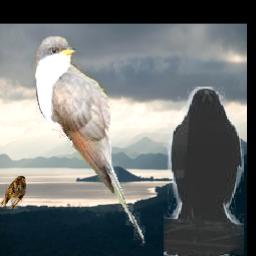Crow: (164, 87, 244, 256)
Cuckoo: (33, 35, 146, 247)
Sparrow: (0, 175, 26, 209)
